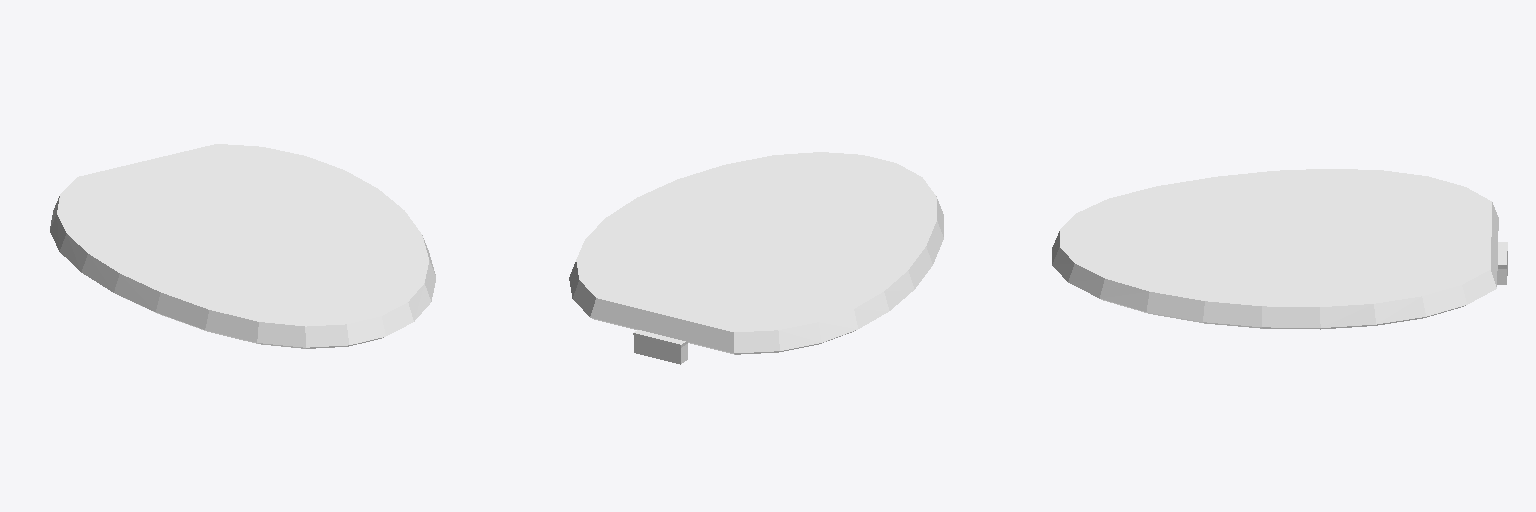
Rendered from toilet_seat top.obj.
3 views of the same model, side by side, from view 1: azimuth 30°, elevation 25°; view 2: azimuth 150°, elevation 25°; view 3: azimuth 270°, elevation 25° (orthographic).
Parts seen in each view (by area): view 1: toilet_seat top; view 2: toilet_seat top; view 3: toilet_seat top.
Part boxes in pixels (bbox=[...]): toilet_seat top: bbox=[50, 144, 435, 348]; toilet_seat top: bbox=[569, 152, 943, 364]; toilet_seat top: bbox=[1052, 169, 1507, 329].
Size of the model in its own units: 0.505 by 0.0617 by 0.6727.